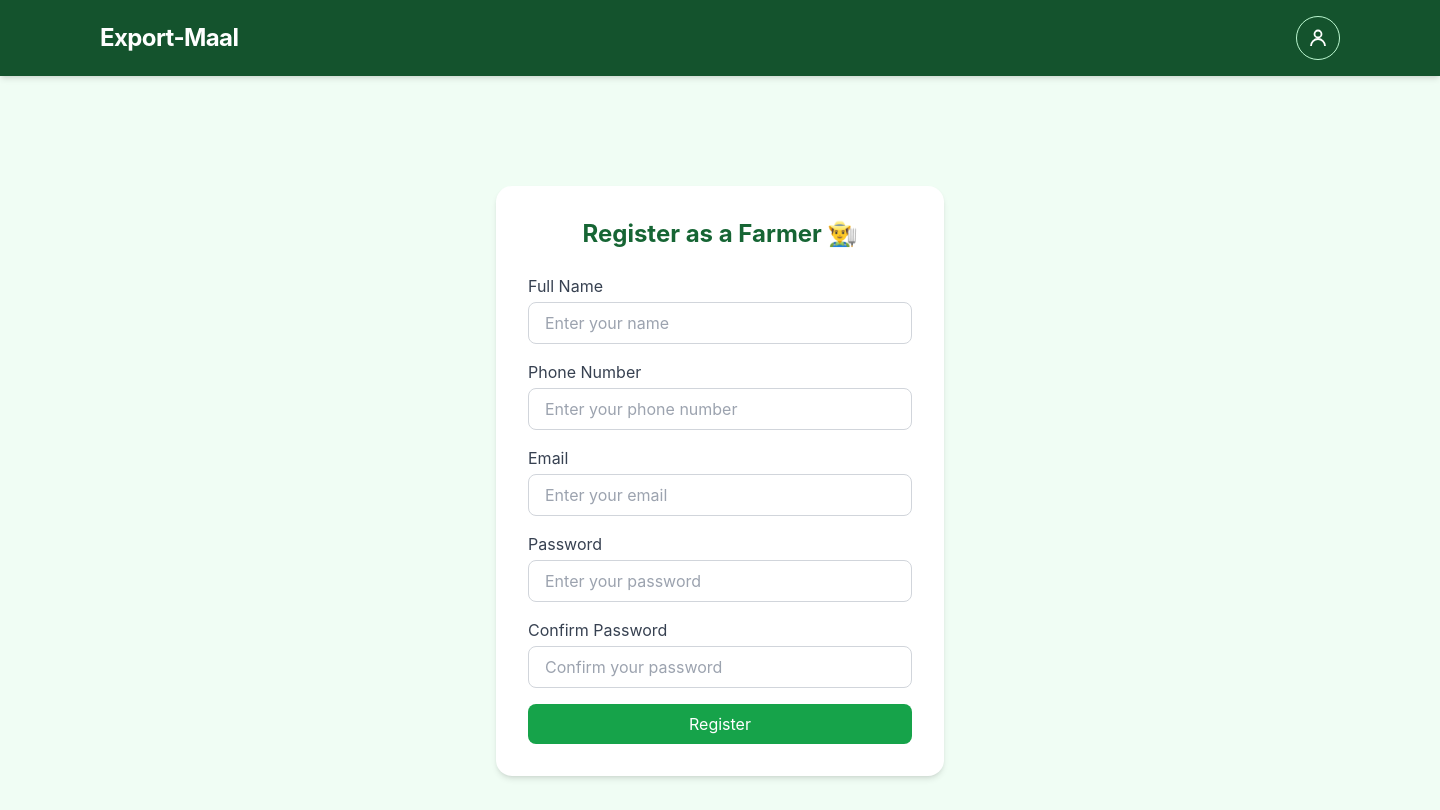
it: directs duplicate farmer emails to sign in instead of creating another account
The image size is (1440, 810).
Type "Farmer Name" into the field with placeholder "Enter your name". click: (720, 323)
box: [528,302,912,344]
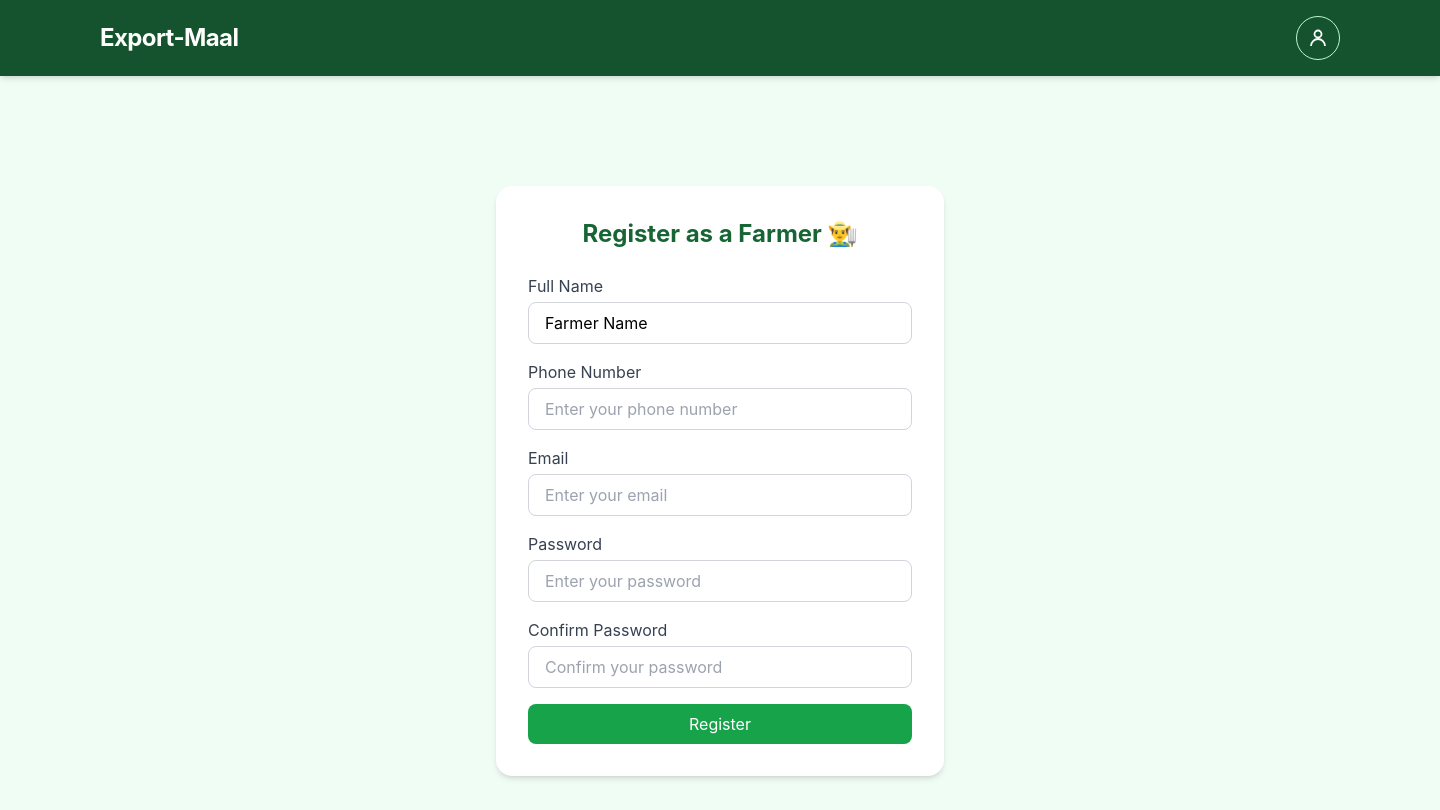
Type "1234567890" into the field with placeholder "Enter your phone number". click: (720, 409)
box: [528,388,912,430]
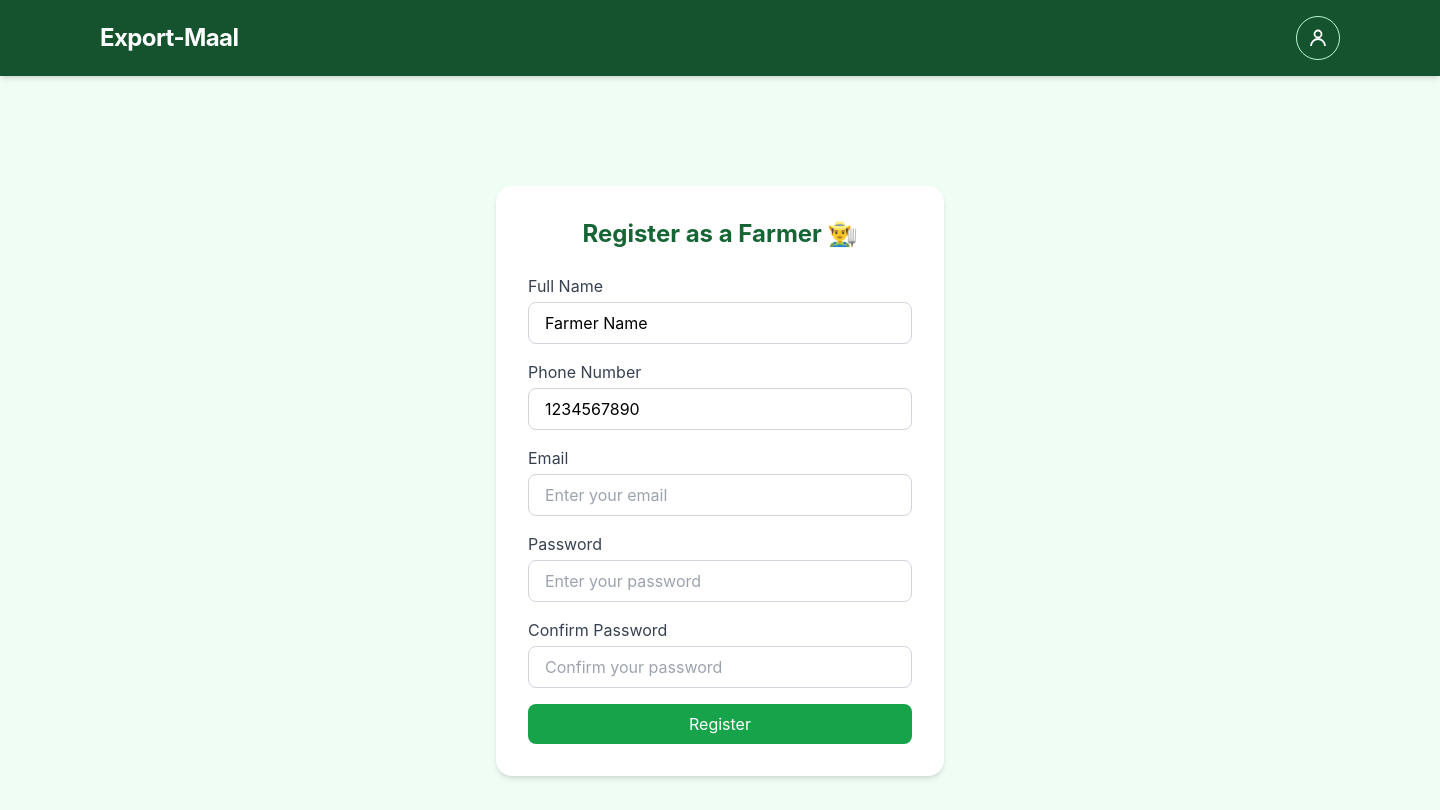
Type "signed-in@example.com" into the field with placeholder "Enter your email". click: (720, 495)
box: [528,474,912,516]
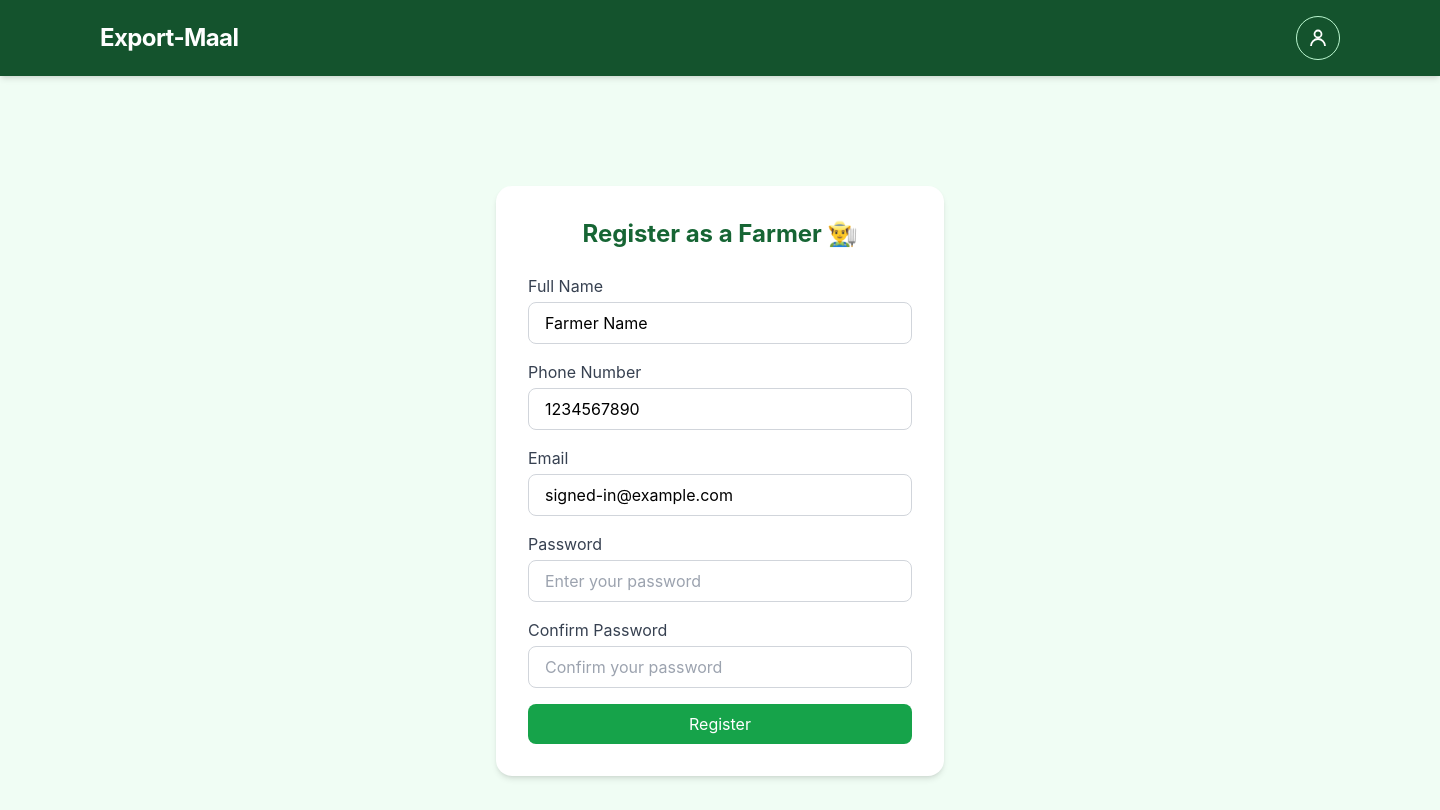
Type "password123" into the password field with placeholder "Enter your password". click: (720, 581)
box: [528,560,912,602]
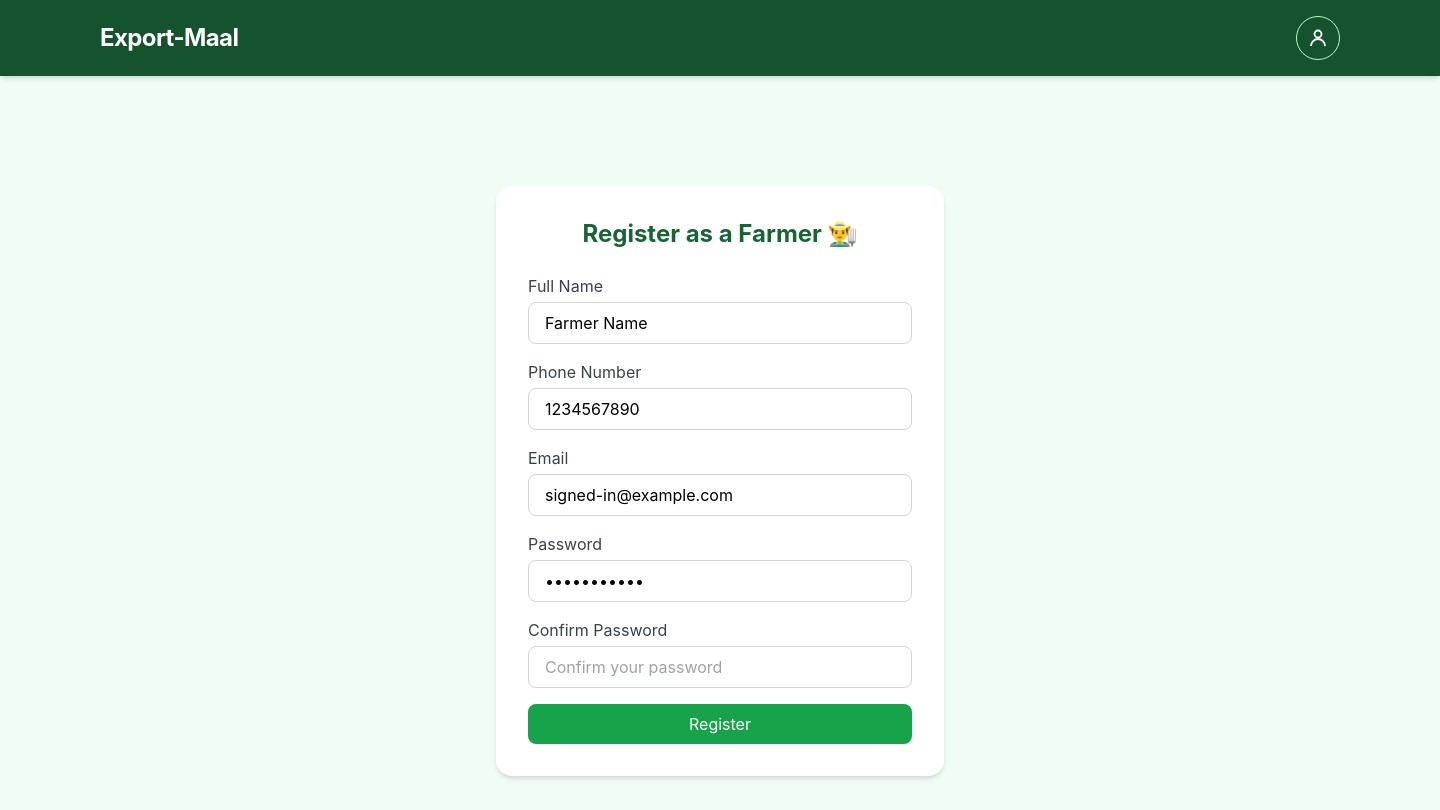
Type "password123" into the password field with placeholder "Confirm your password". click: (720, 667)
box: [528,646,912,688]
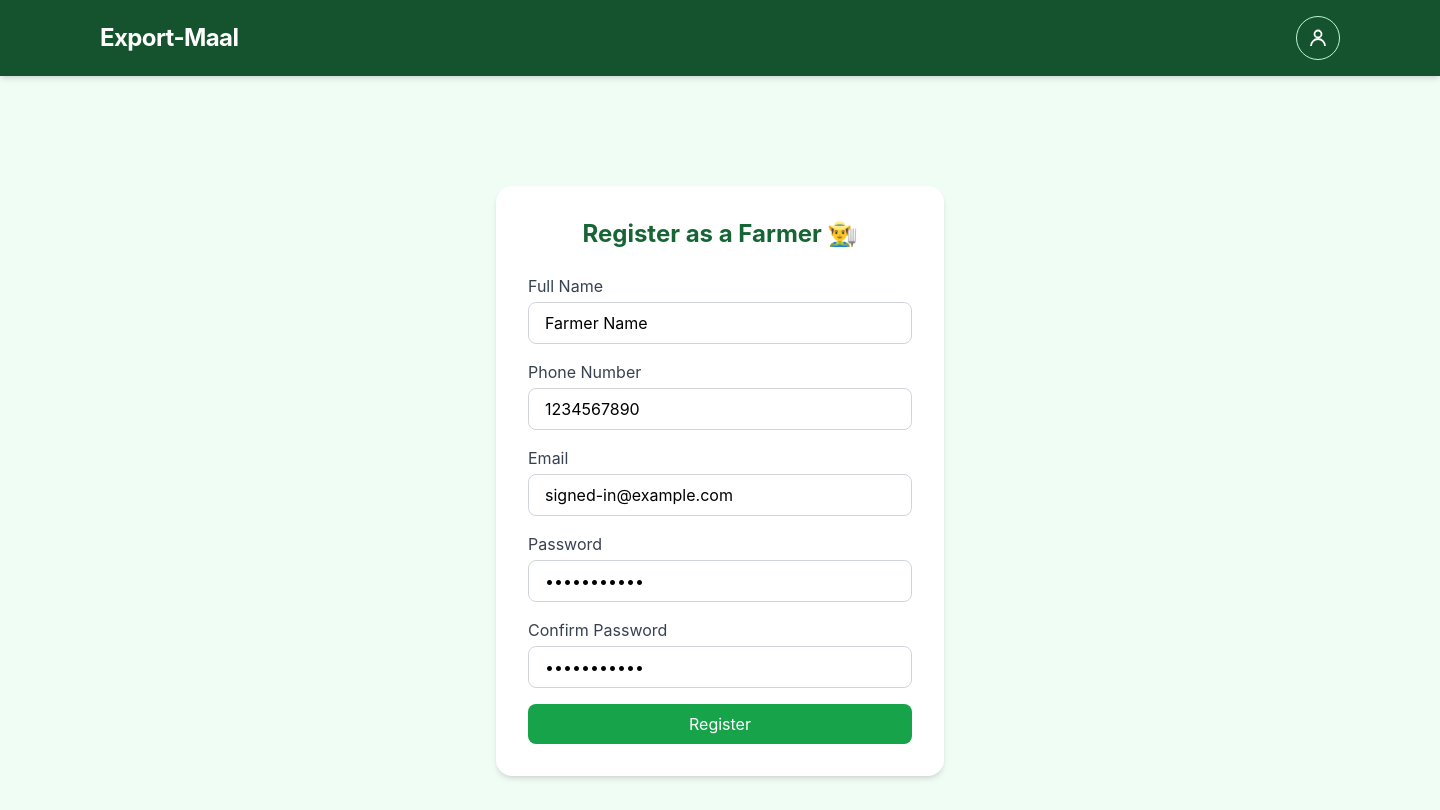
Click the button "Register". click: (720, 724)
box: [528,704,912,744]
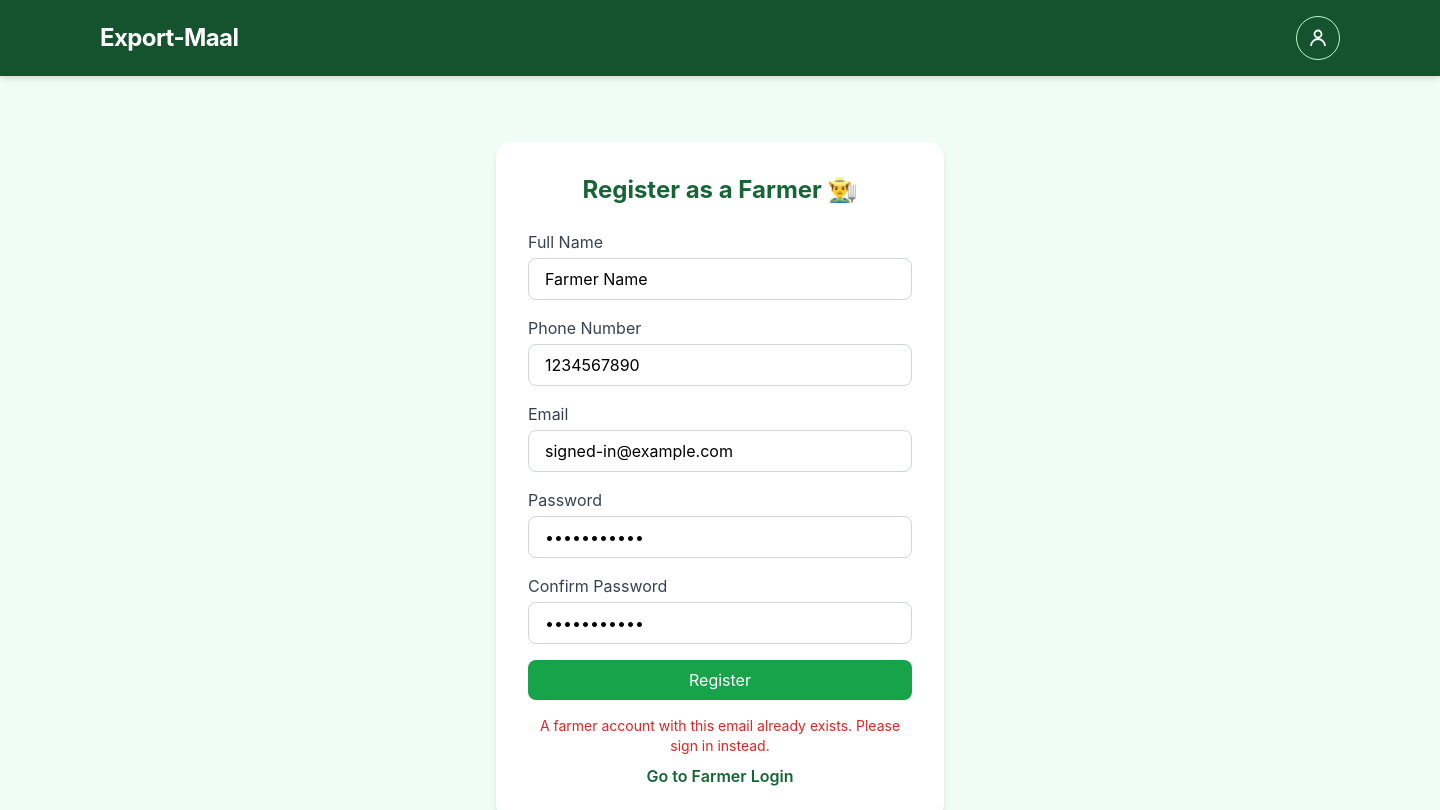
Expected: the text "A farmer account with this email already exists" is shown, [540,717,900,754]
Expected: the button "Go to Farmer Login" is shown, [647,764,793,788]
